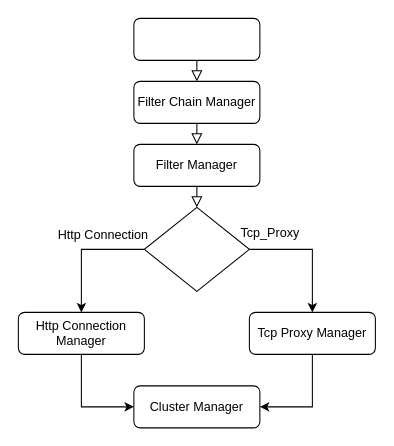
This 394x446 diagram has some shape labels left out. The box of each missing label's shape, as (x1, y1, x2, y2) in pixels:
Config Type: (143, 206, 249, 291)
Listener Manager: (133, 17, 260, 60)
